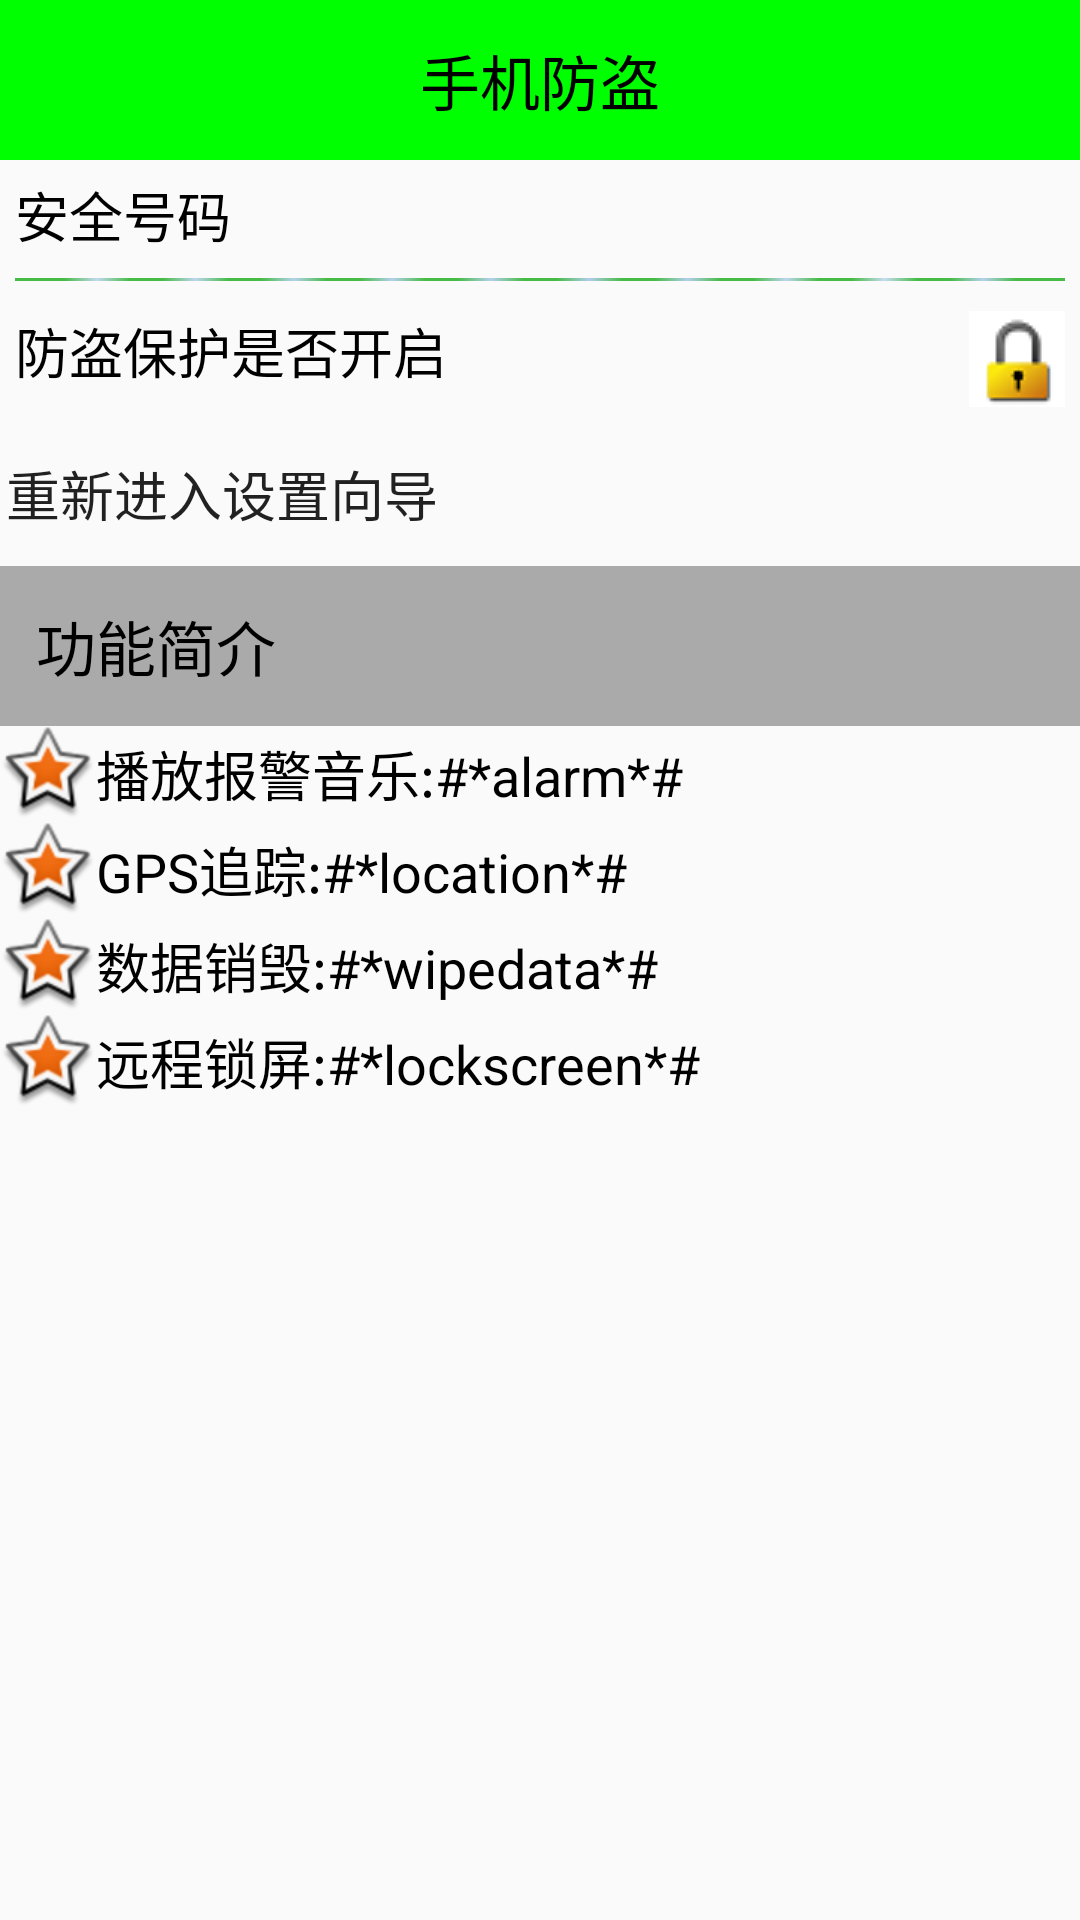

Where to tap for icons on this 1080px×1920px app screen, as [x,y]:
lock: [1018,361]
